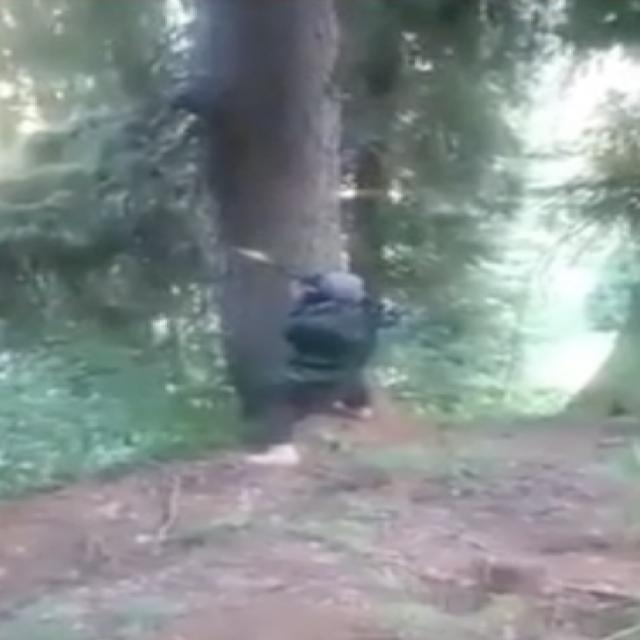bazooka: (176, 211, 428, 346)
